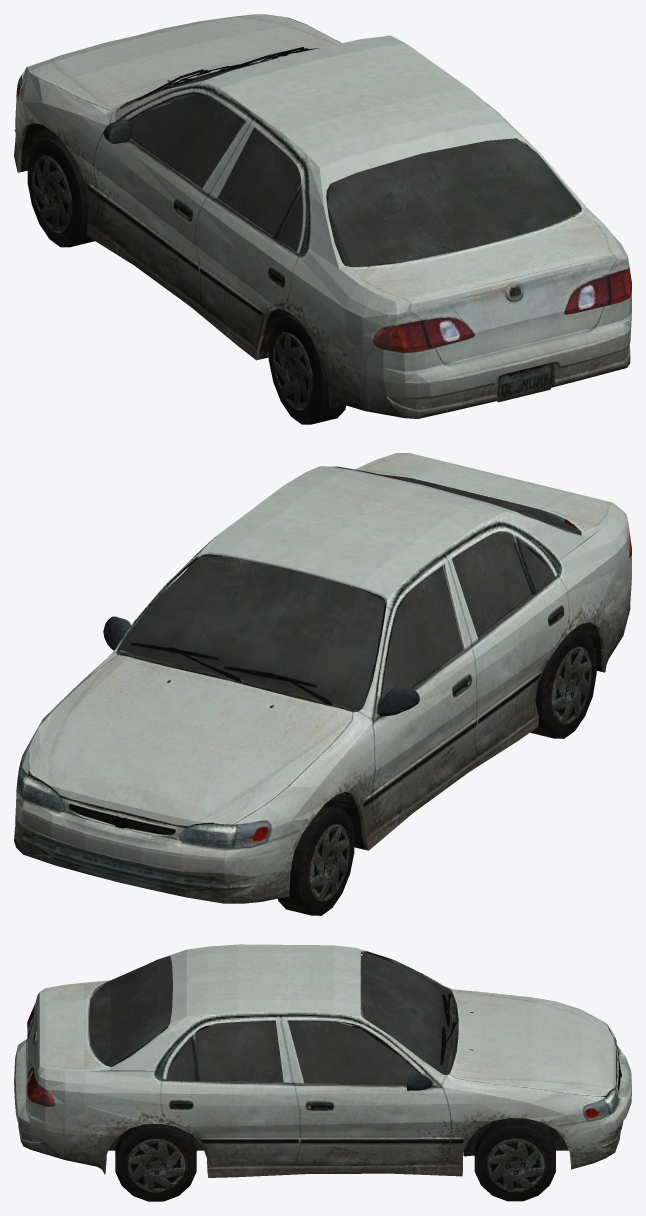
Rendered from 0IKAT38U6EJM0FFVWVKHVPMQX.obj.
The picture shows the model from 3 angles, top to bottom: view 1: azimuth 30°, elevation 25°; view 2: azimuth 150°, elevation 25°; view 3: azimuth 270°, elevation 25°; orthographic projection. The views are drawn at different scales.
Parts seen in each view (by area): view 1: Object_car_white.jpg, Object_car_glass.jpg; view 2: Object_car_white.jpg, Object_car_glass.jpg; view 3: Object_car_white.jpg, Object_car_glass.jpg.
Boxes of the visible parts, x1,y1,x2,y2 form: Object_car_white.jpg: (14, 14, 631, 424); Object_car_glass.jpg: (128, 57, 581, 266); Object_car_white.jpg: (14, 453, 631, 915); Object_car_glass.jpg: (118, 466, 581, 708); Object_car_white.jpg: (14, 944, 631, 1201); Object_car_glass.jpg: (89, 952, 452, 1083).
Size of the model in its own units: 1.08 by 0.8012 by 2.5.
